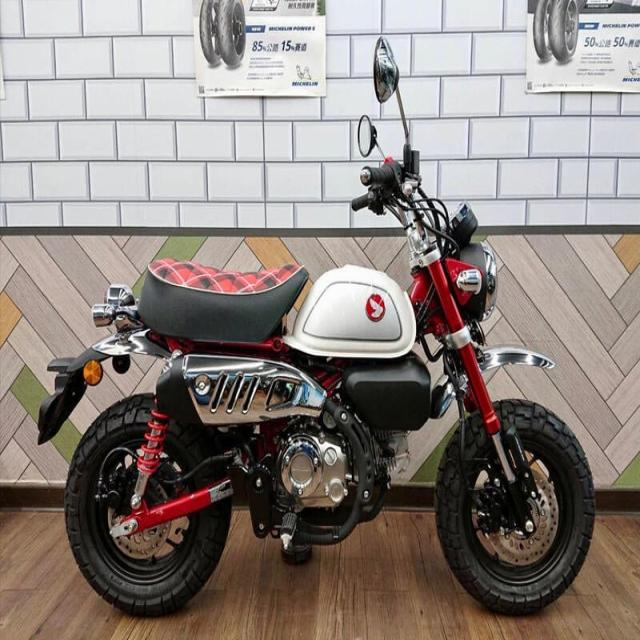Bike: (37, 39, 596, 619)
